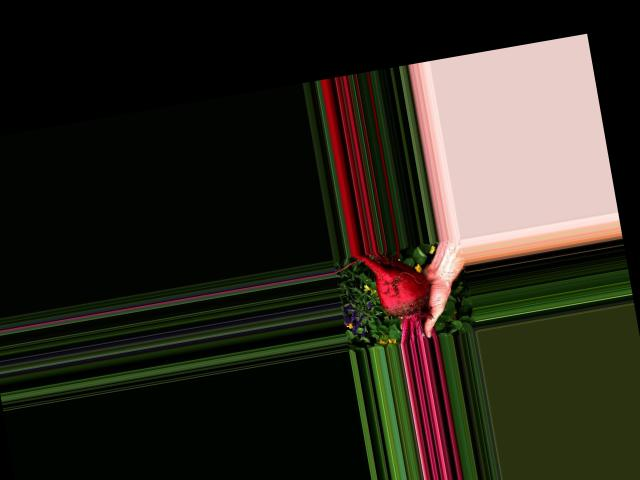beet: (352, 243, 437, 349)
